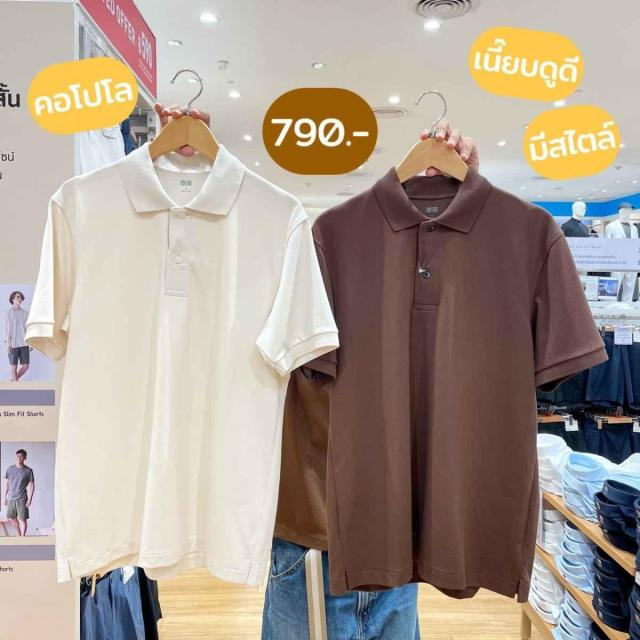Tshirt: (274, 171, 596, 602), (19, 138, 320, 575)
